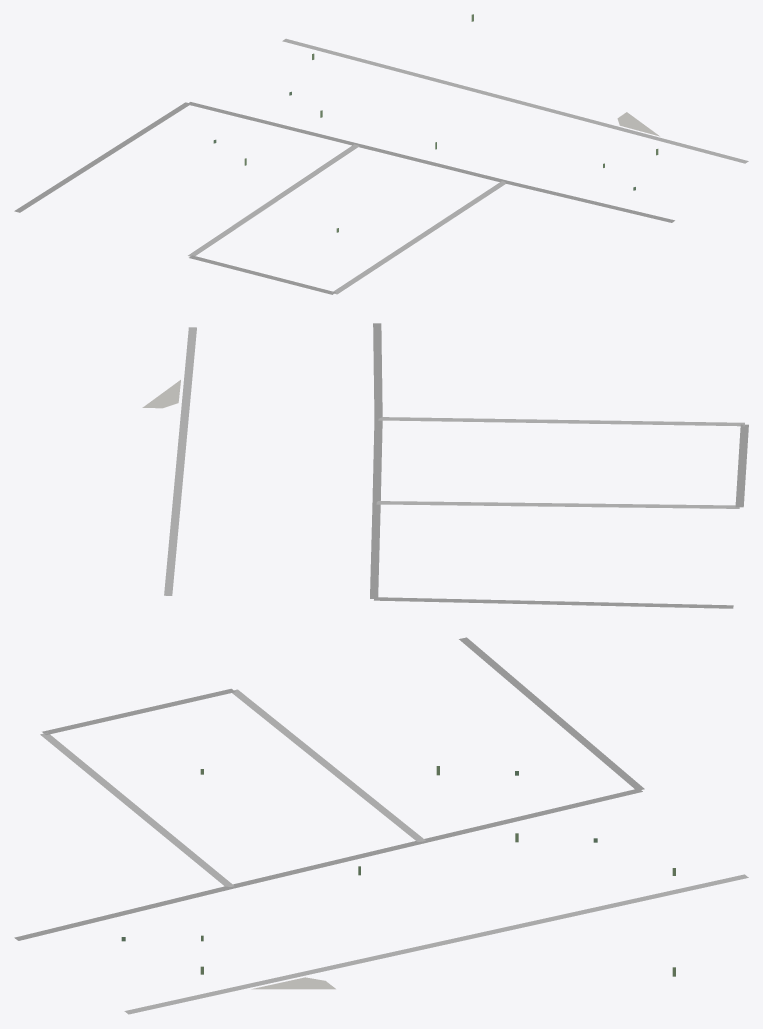
3 views of the same model, one above another, from view 1: azimuth 30°, elevation 25°; view 2: azimuth 150°, elevation 25°; view 3: azimuth 270°, elevation 25° (orthographic). The views are drawn at different scales.
Size of the model in its own units: 680 by 9.24 by 561.
